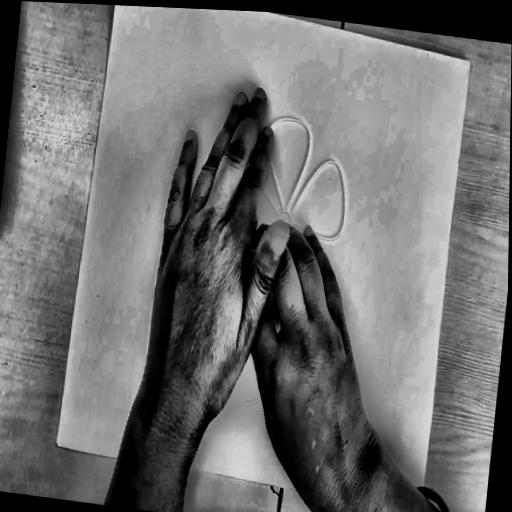bottom_left: (417, 498, 424, 509)
bottom_right: (51, 436, 61, 450)
flower: (184, 88, 369, 432)
top_left: (467, 58, 473, 67)
